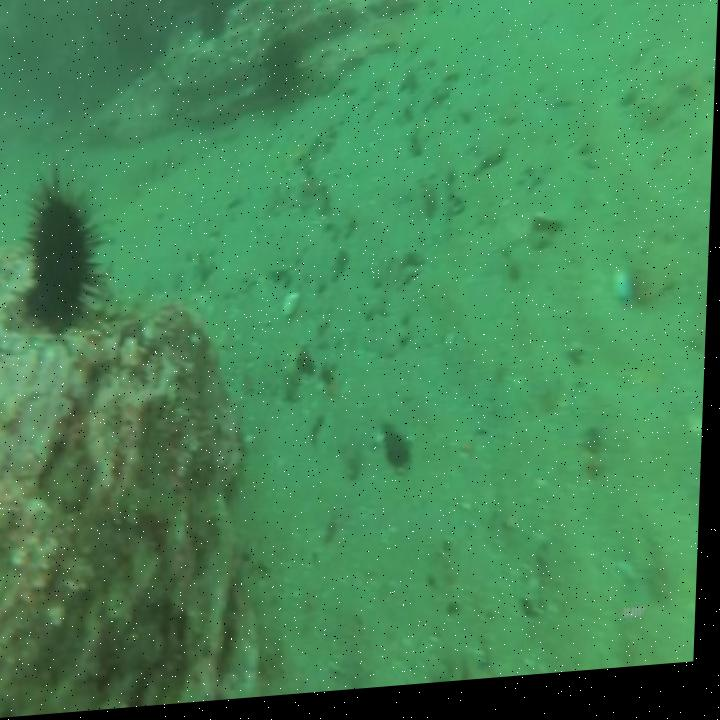echinus: (21, 176, 99, 341), (262, 39, 304, 105), (196, 0, 234, 48)
